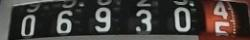digits: (210, 0, 234, 40), (93, 7, 111, 31), (172, 7, 190, 30), (56, 10, 73, 33), (134, 9, 151, 30), (20, 14, 36, 35)
